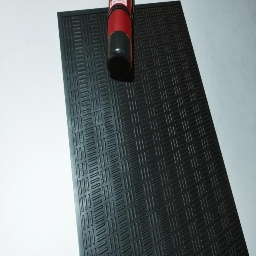FireExtinguisher ]: (106, 0, 134, 78)
